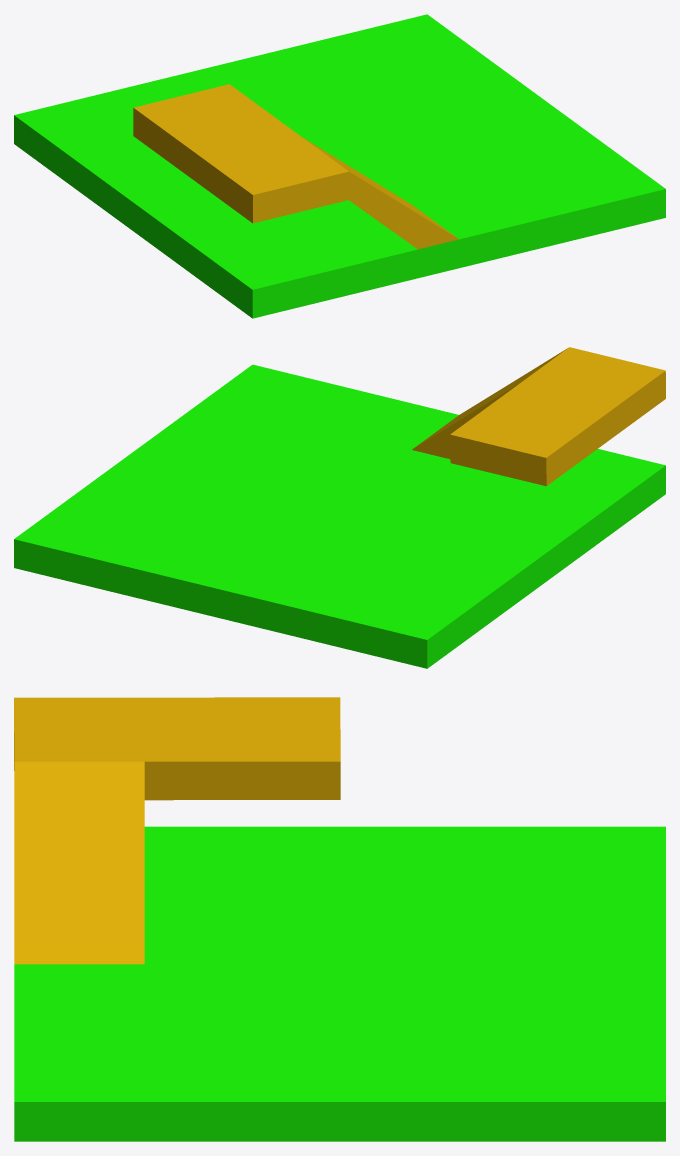
File: testMap_1.glb
3 renders of one model, top to bottom at view 1: azimuth 30°, elevation 25°; view 2: azimuth 150°, elevation 25°; view 3: azimuth 270°, elevation 25°, orthographic. The views are drawn at different scales.
Visible parts, largest first — view 1: Mesh_0; view 2: Mesh_0; view 3: Mesh_0.
Boxes of the visible parts, x1,y1,x2,y2 form: Mesh_0: (14, 14, 665, 318); Mesh_0: (14, 347, 665, 668); Mesh_0: (14, 697, 665, 1141).
Bounding box in the file's own units: 15 × 4.29 × 15.01.
